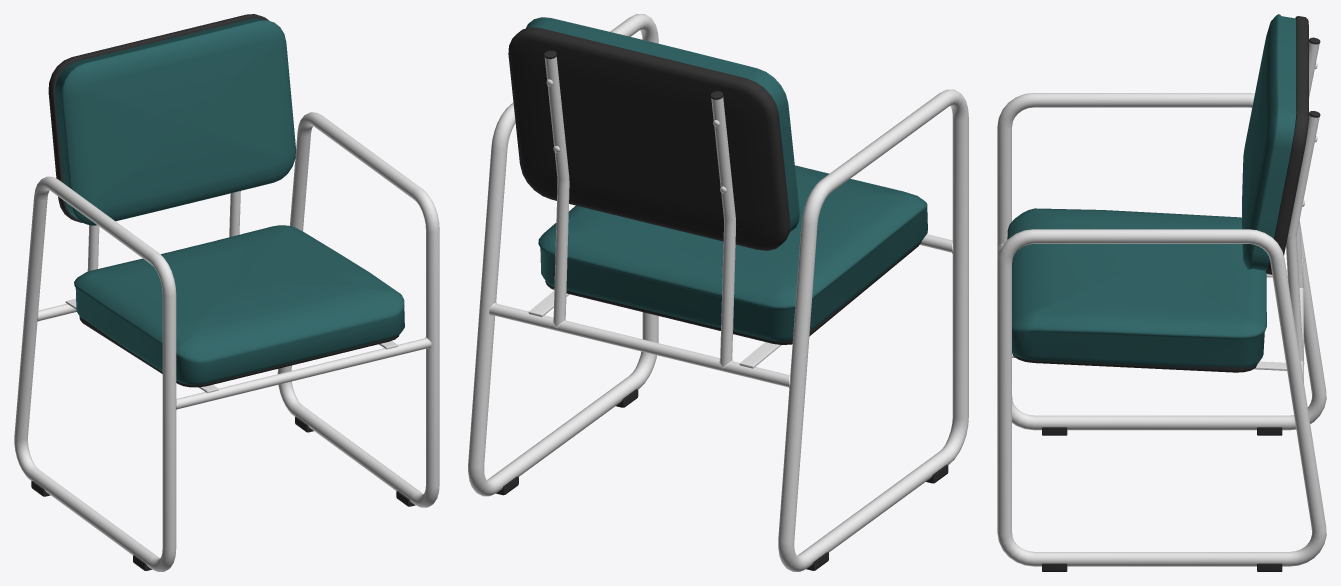
Rendered from Kit_GuestChairSled.fbx.
The picture shows the model from 3 angles, left to right: view 1: azimuth 30°, elevation 25°; view 2: azimuth 150°, elevation 25°; view 3: azimuth 270°, elevation 25°; orthographic projection. The views are drawn at different scales.
Parts seen in each view (by area): view 1: Kit_GuestChairSled_LOD0; view 2: Kit_GuestChairSled_LOD0; view 3: Kit_GuestChairSled_LOD0.
Part boxes in pixels (x1=…): Kit_GuestChairSled_LOD0: x1=14, y1=14, x2=439, y2=571; Kit_GuestChairSled_LOD0: x1=468, y1=14, x2=968, y2=571; Kit_GuestChairSled_LOD0: x1=997, y1=14, x2=1326, y2=571.
Size of what is drawn, in the model's own units: 0.59 by 0.8391 by 0.5699.
